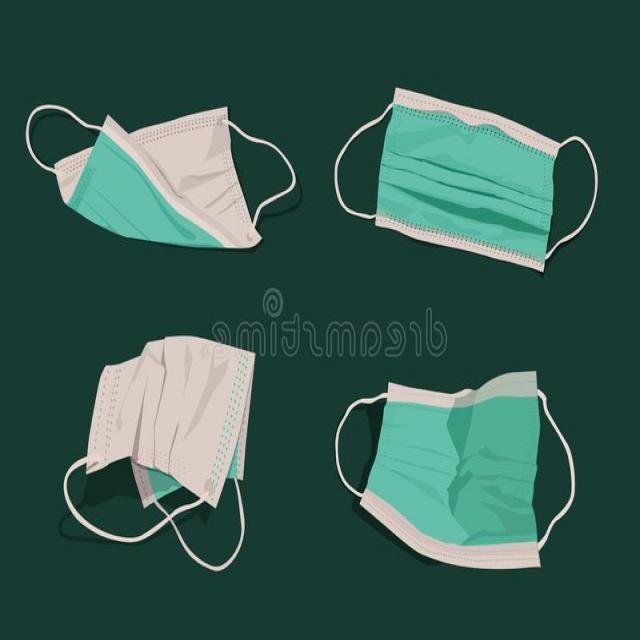face mask: (334, 363, 580, 568), (338, 94, 602, 269), (25, 89, 298, 250), (63, 346, 259, 562)
